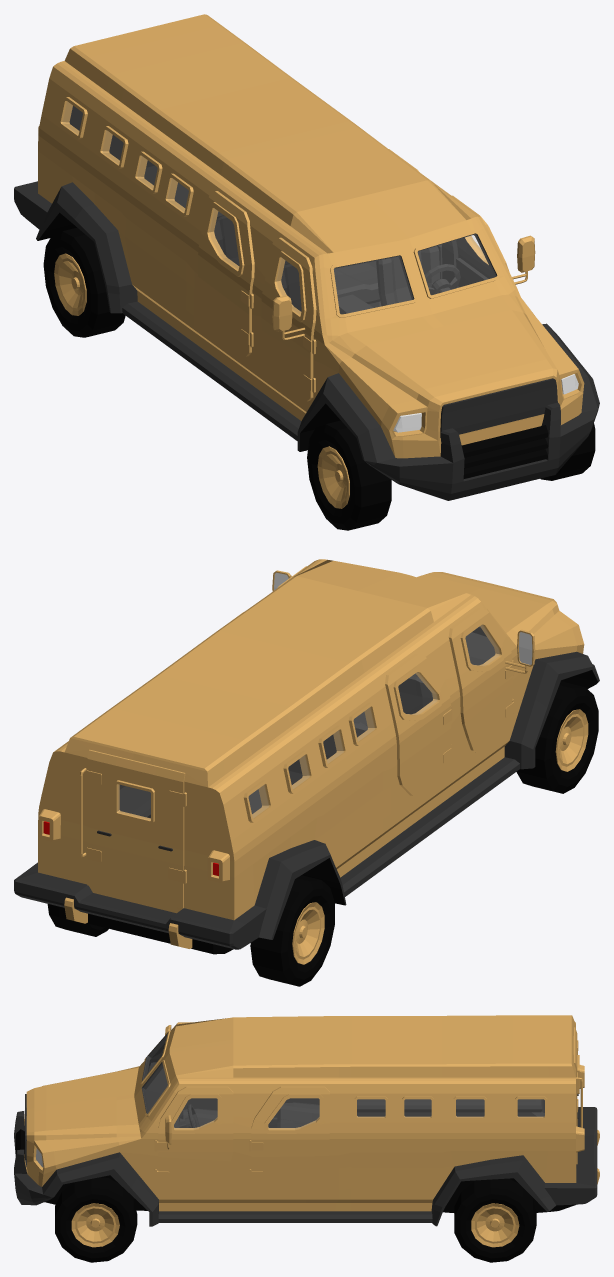
The picture shows the model from 3 angles, top to bottom: view 1: azimuth 30°, elevation 25°; view 2: azimuth 150°, elevation 25°; view 3: azimuth 270°, elevation 25°; orthographic projection. The views are drawn at different scales.
Parts seen in each view (by area): view 1: Plane, Plane.003, Plane.008, Plane.010, Plane.009, Cylinder, Cylinder.001, Plane.001, Cylinder.002; view 2: Plane, Plane.004, Plane.009, Plane.010, Cylinder.001, Cylinder, Plane.008, Plane.003, Cylinder.003; view 3: Plane, Plane.002, Plane.001, Cylinder.002, Cylinder.003, Plane.008, Plane.003, Plane.009, Plane.004.
Boxes of the visible parts, x1,y1,x2,y2 form: Plane: (14,14,599,500); Plane.003: (63,102,495,313); Plane.008: (69,105,497,314); Plane.010: (197,191,254,356); Plane.009: (261,237,316,401); Cylinder: (307,420,391,530); Cylinder.001: (43,227,125,337); Plane.001: (452,195,535,287); Cylinder.002: (540,423,595,480); Plane: (14,559,599,954); Plane.004: (86,749,185,908); Plane.009: (448,608,535,752); Plane.010: (385,654,451,795); Cylinder.001: (250,875,334,986); Cylinder: (516,681,598,793); Plane.008: (119,626,495,818); Plane.003: (249,708,374,817); Cylinder.003: (47,904,108,936); Plane: (14,1015,599,1226); Plane.002: (251,1086,329,1190); Plane.001: (157,1086,233,1190); Cylinder.002: (55,1177,137,1262); Cylinder.003: (454,1178,536,1262); Plane.008: (141,1033,544,1127); Plane.003: (143,1036,544,1116); Plane.009: (158,1025,217,1110); Plane.004: (573,1027,579,1164).
Bounding box in the file's own units: 295 × 257 × 755.
